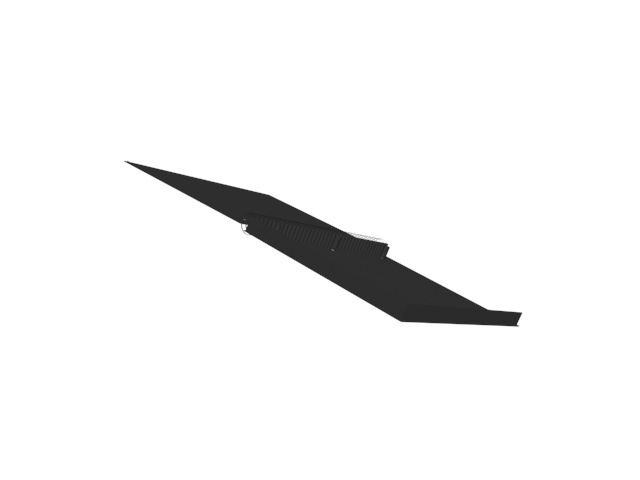paper_notebook: (121, 161, 528, 328)
